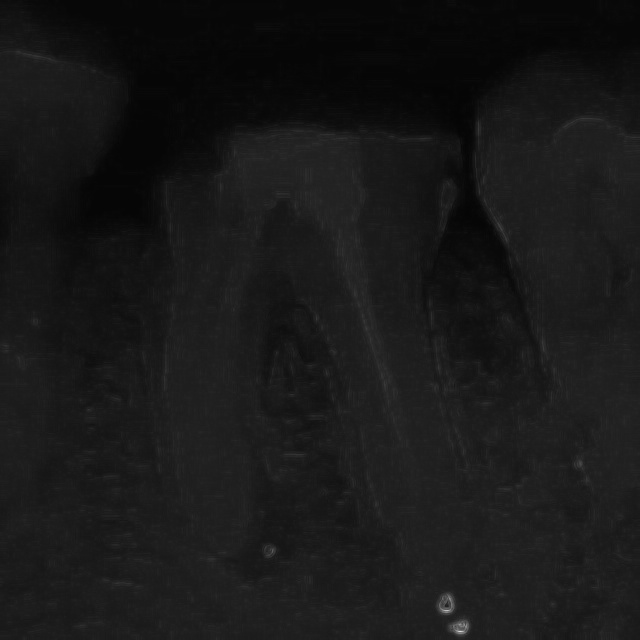Class 1- complete endodontic treatment: (132, 86, 507, 614)
